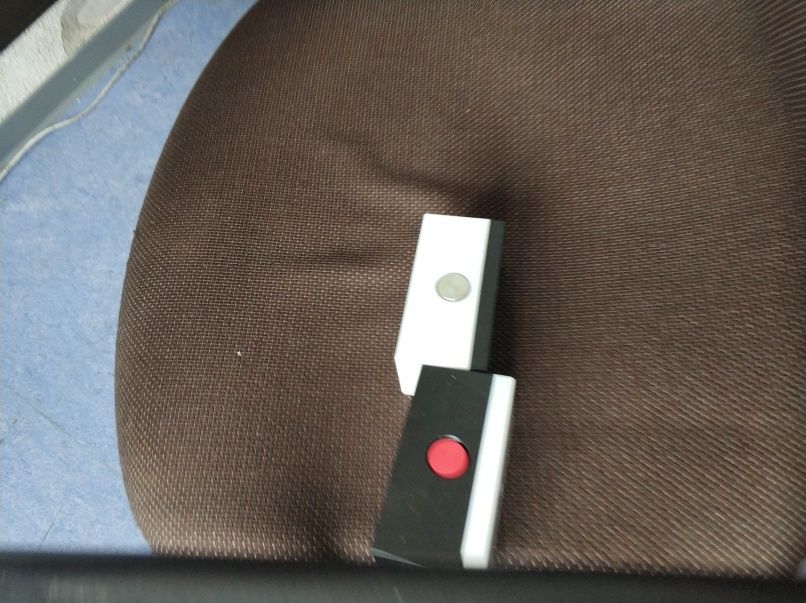black+white+silver: (393, 209, 508, 403)
white+black+red: (375, 363, 519, 564)
